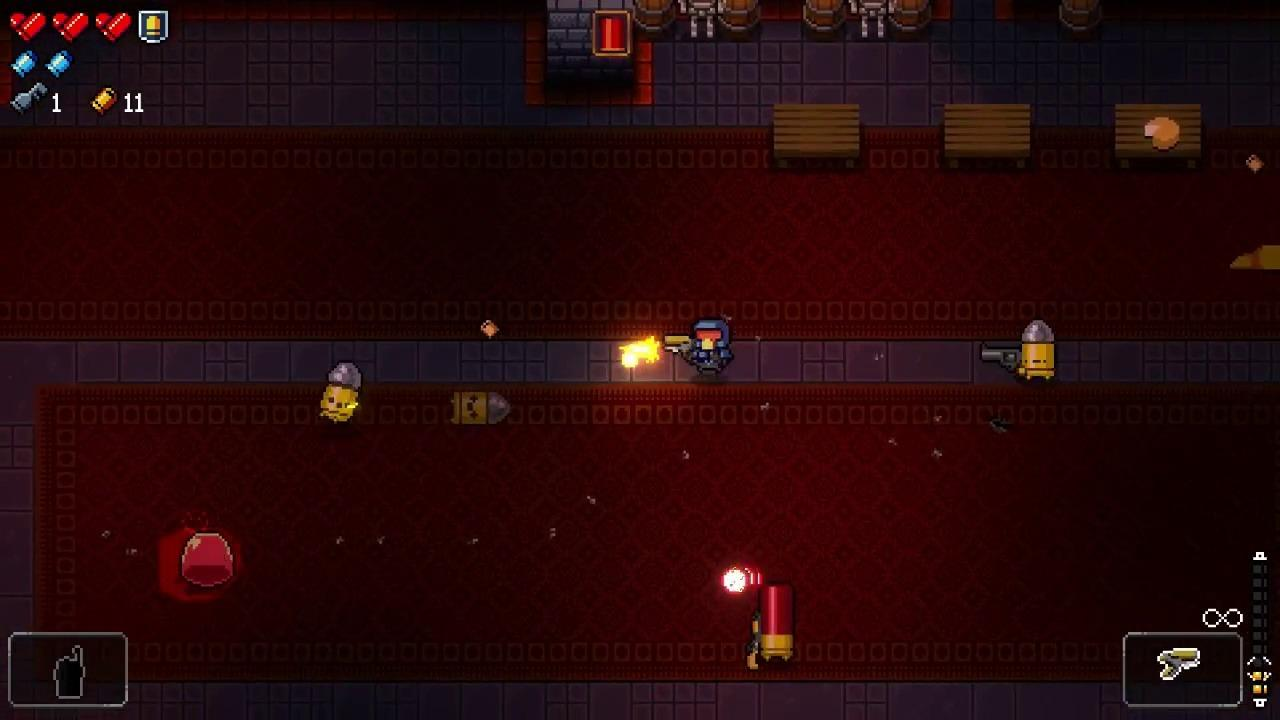blobulon_l: (180, 531, 234, 588)
bullet: (721, 566, 748, 594)
bullet_kin: (320, 362, 362, 424), (1021, 319, 1055, 382)
dead_bullet_kin: (450, 390, 513, 426)
player: (691, 321, 733, 377)
red_shotgun_kin: (757, 585, 795, 663)
table: (1112, 100, 1202, 168), (774, 105, 860, 168), (945, 104, 1029, 168)
